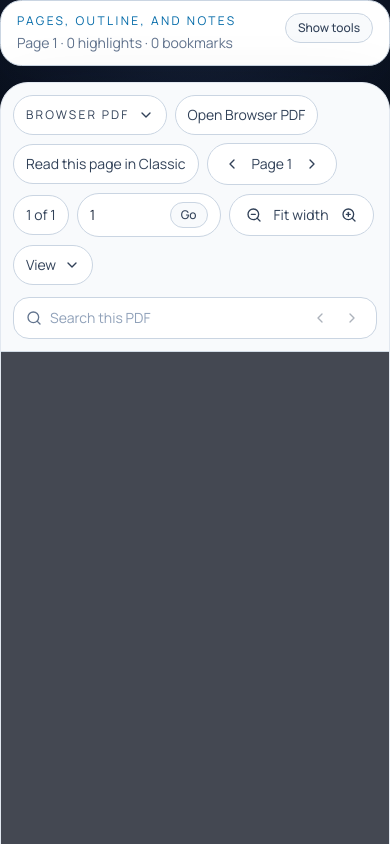
Test: PdfReaderWorkspace › shows PDF tools, selected highlight guidance, and the mobile PDF sheet without thumbnails
Expected: the button "Browser PDF" is shown, [13,95,166,135]
Expected: the button "Open Browser PDF" is shown, [174,95,318,135]
Click the button "Show tools" at (195, 33), box [0,0,389,66]
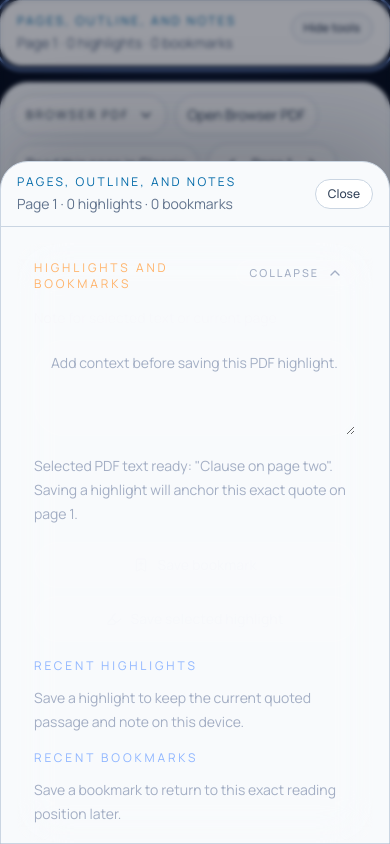
Expected: the dialog "Pages, outline, and notes" is shown
